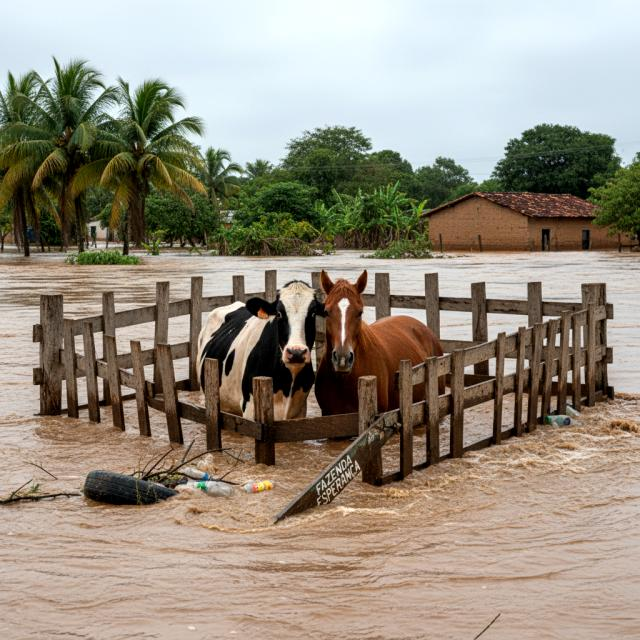cow: (190, 271, 331, 450)
horse: (311, 265, 458, 443)
